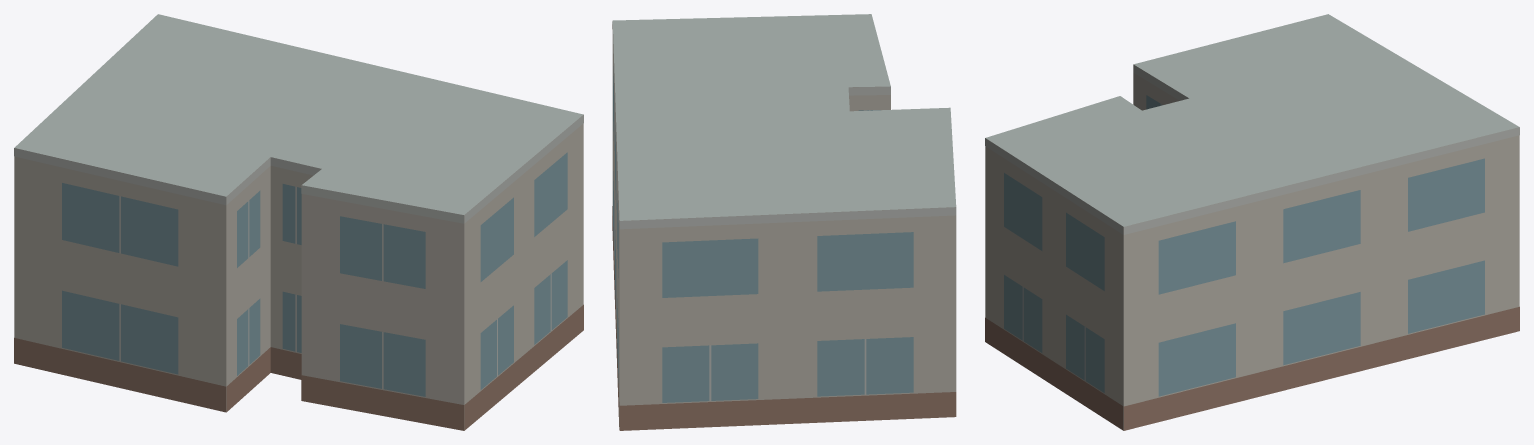
File: survey-upis-32767721.glb
3 views of the same model, side by side, from view 1: azimuth 30°, elevation 25°; view 2: azimuth 150°, elevation 25°; view 3: azimuth 270°, elevation 25° (orthographic). The views are drawn at different scales.
Visible parts, largest first — view 1: survey-upis-32767721.tmp; view 2: survey-upis-32767721.tmp; view 3: survey-upis-32767721.tmp.
Part boxes in pixels (x1=…): survey-upis-32767721.tmp: x1=14, y1=14, x2=583, y2=430; survey-upis-32767721.tmp: x1=612, y1=14, x2=956, y2=430; survey-upis-32767721.tmp: x1=985, y1=14, x2=1519, y2=430.
Bounding box in the file's own units: 13.66 × 6.1 × 14.5.
